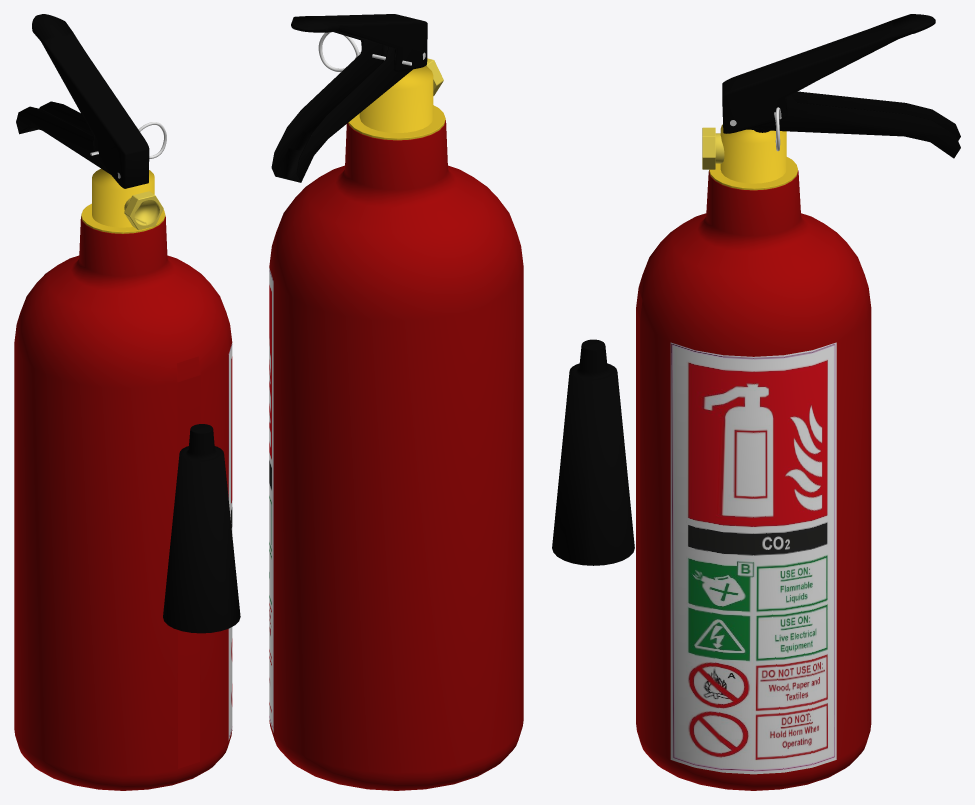
The model's file is fire_exntinguisher.fbx.
The picture shows the model from 3 angles, left to right: view 1: azimuth 30°, elevation 25°; view 2: azimuth 150°, elevation 25°; view 3: azimuth 270°, elevation 25°; orthographic projection. The views are drawn at different scales.
Visible parts, largest first — view 1: Tank, Hose, Squeezer, Valve, Handle, Hex screw; view 2: Tank, Handle, Valve, Squeezer; view 3: Tank, Hose, Squeezer, Handle, Valve, Hex screw.
Part boxes in pixels (x1,y1,x2,y2): Tank: (14,216,232,790); Hose: (163,424,240,633); Squeezer: (32,14,149,188); Valve: (81,168,165,233); Handle: (16,101,110,174); Hex screw: (124,191,163,230); Tank: (269,120,523,790); Handle: (271,40,412,182); Valve: (348,66,445,140); Squeezer: (291,14,427,71); Tank: (636,170,871,790); Hose: (552,339,634,565); Squeezer: (722,14,935,133); Handle: (747,91,960,158); Valve: (709,124,797,190); Hex screw: (702,127,724,169).
Size of the model in its own units: 27.01 by 92.54 by 46.97.
Materials: 9 (1 with a texture image).
